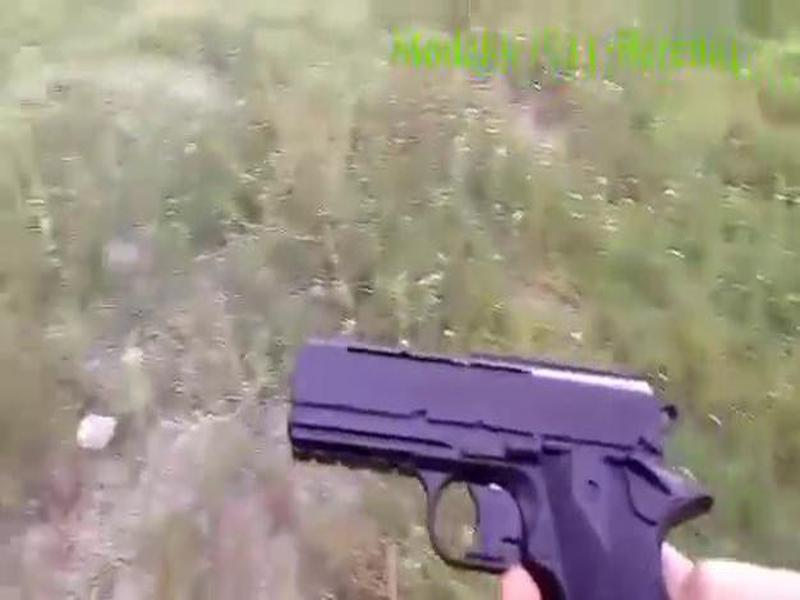Pistola: (252, 294, 739, 600)
